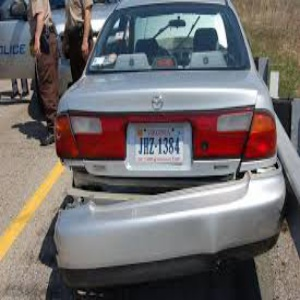bumper: (48, 169, 272, 278)
